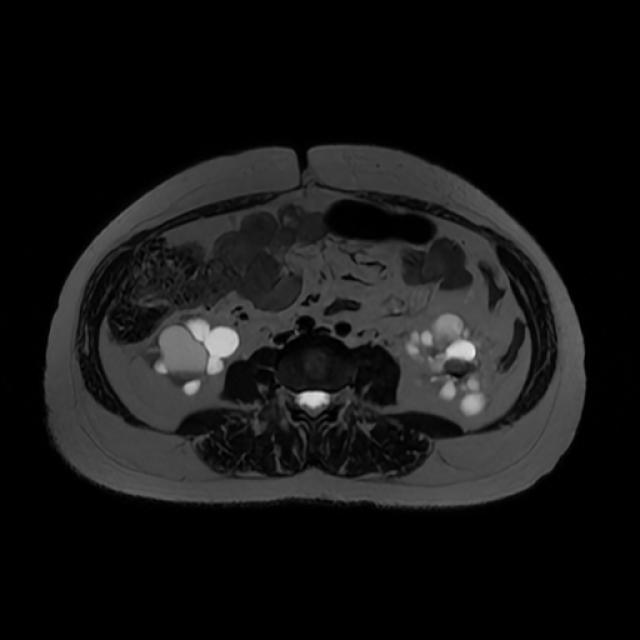sag: (147, 319, 243, 397)
sol: (403, 314, 488, 414)
